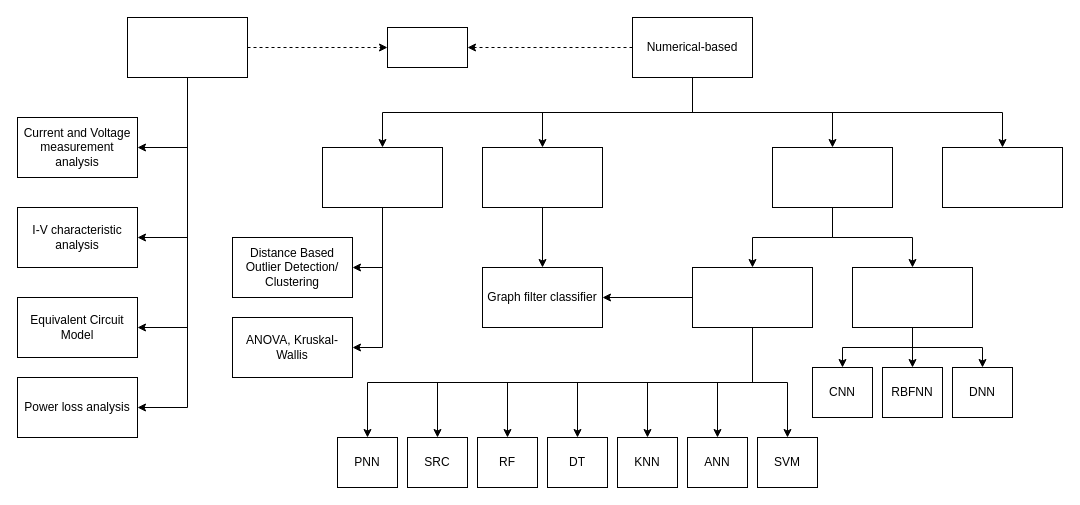
This 1080x505 diagram has some shape labels left out. Each missing label, with the centre of its shape:
Artificial Inteligence: pixel 832 177
Deep Learning: pixel 912 297
Electrical-based: pixel 187 47
Fuzzy logic: pixel 1002 177
Hybrid: pixel 427 47
Machine Learning: pixel 752 297
Signal Processing: pixel 542 177
Statistical: pixel 382 177
